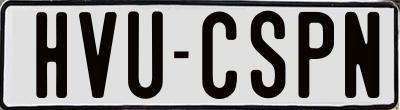C: (202, 8, 237, 96)
H: (36, 10, 67, 102)
N: (345, 10, 381, 102)
P: (295, 12, 331, 103)
S: (251, 10, 288, 98)
U: (127, 10, 168, 101)
V: (77, 12, 119, 101)
